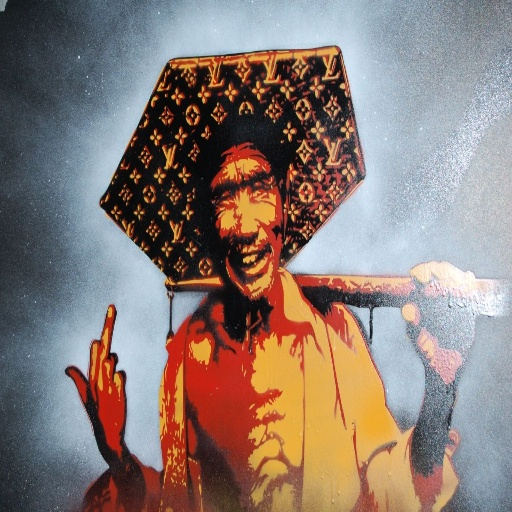hand: (399, 256, 477, 388), (72, 311, 124, 459)
